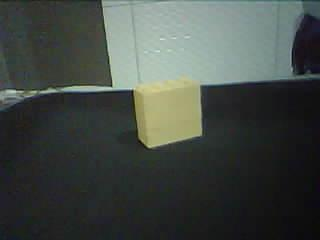lego: (130, 76, 205, 148)
